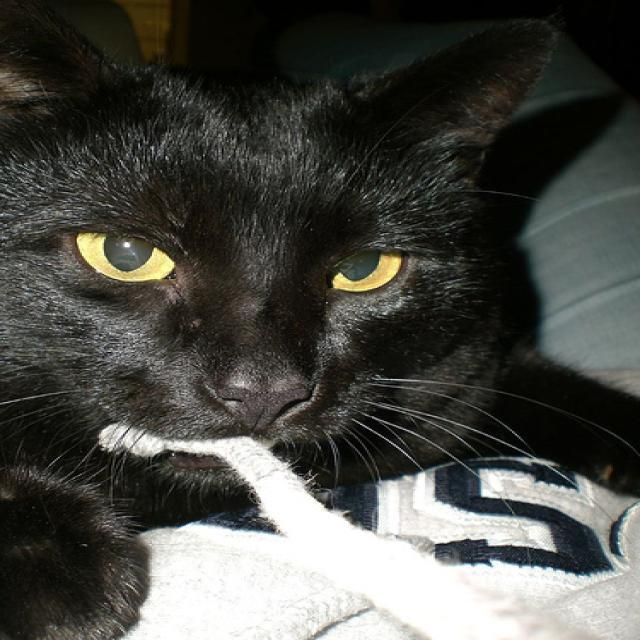Bombay: (0, 0, 564, 503)
